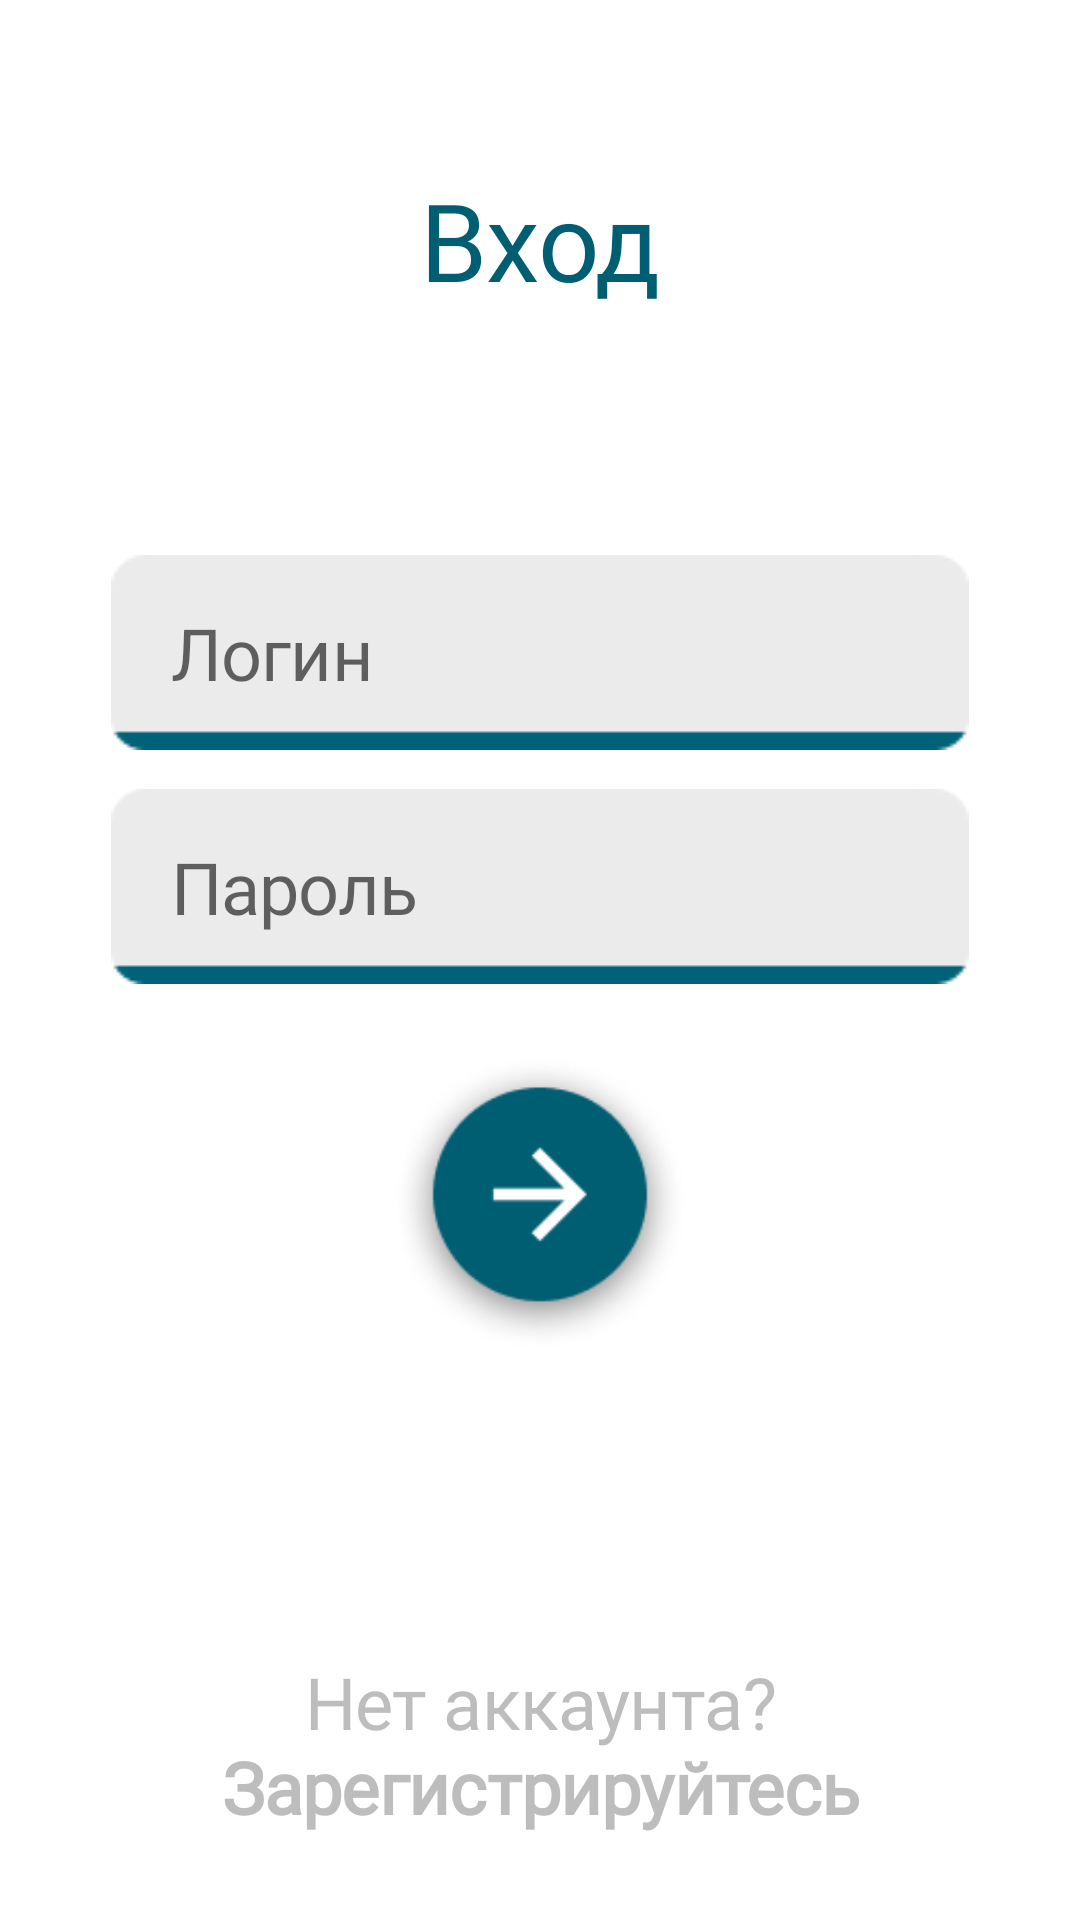

Icons on this 1080*1920 Android screen, each with its box as (x1, y1, x2, y2):
next: (418, 1081, 662, 1325)
